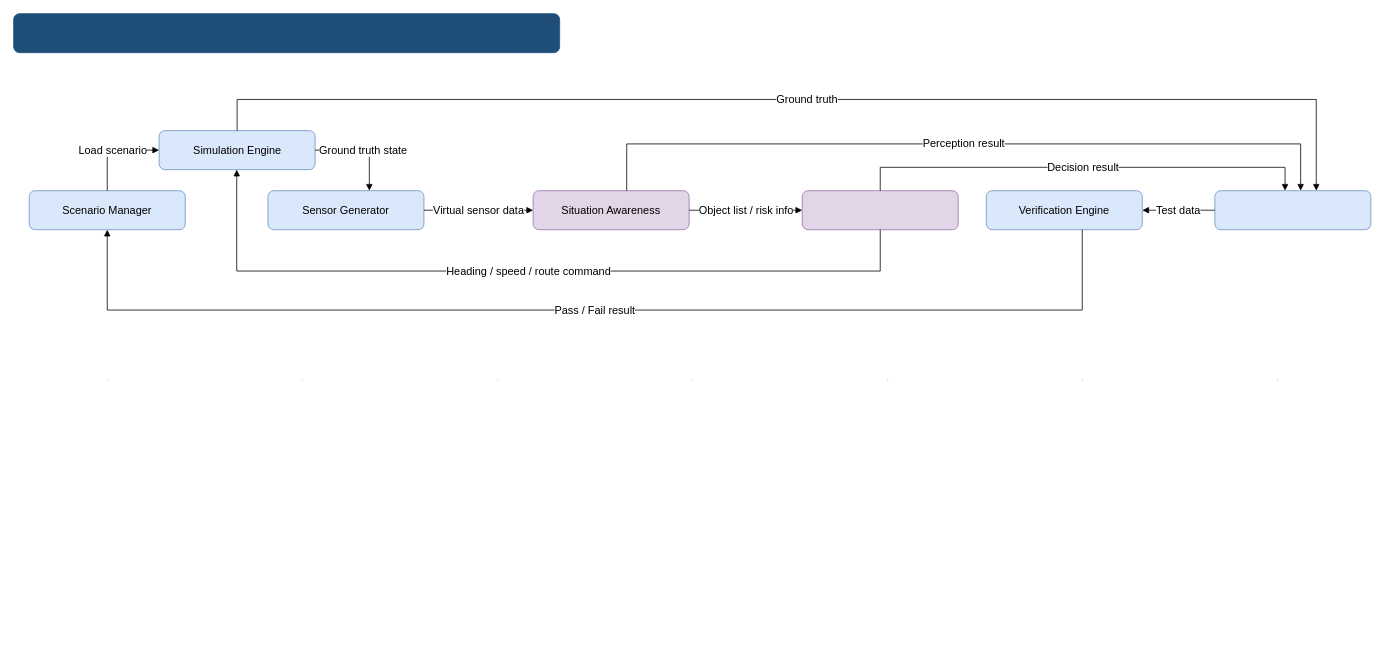
The diagram is 1385 pixels wide and 667 high, and some of its shapes have lost their labels. Here are the shapes that lost their labels. From the top down, the centre of each, then its label:
pixel 286 33: SILS 폐루프 제어 및 검증 흐름
pixel 879 210: Safety Navigation
pixel 1292 210: Logger
